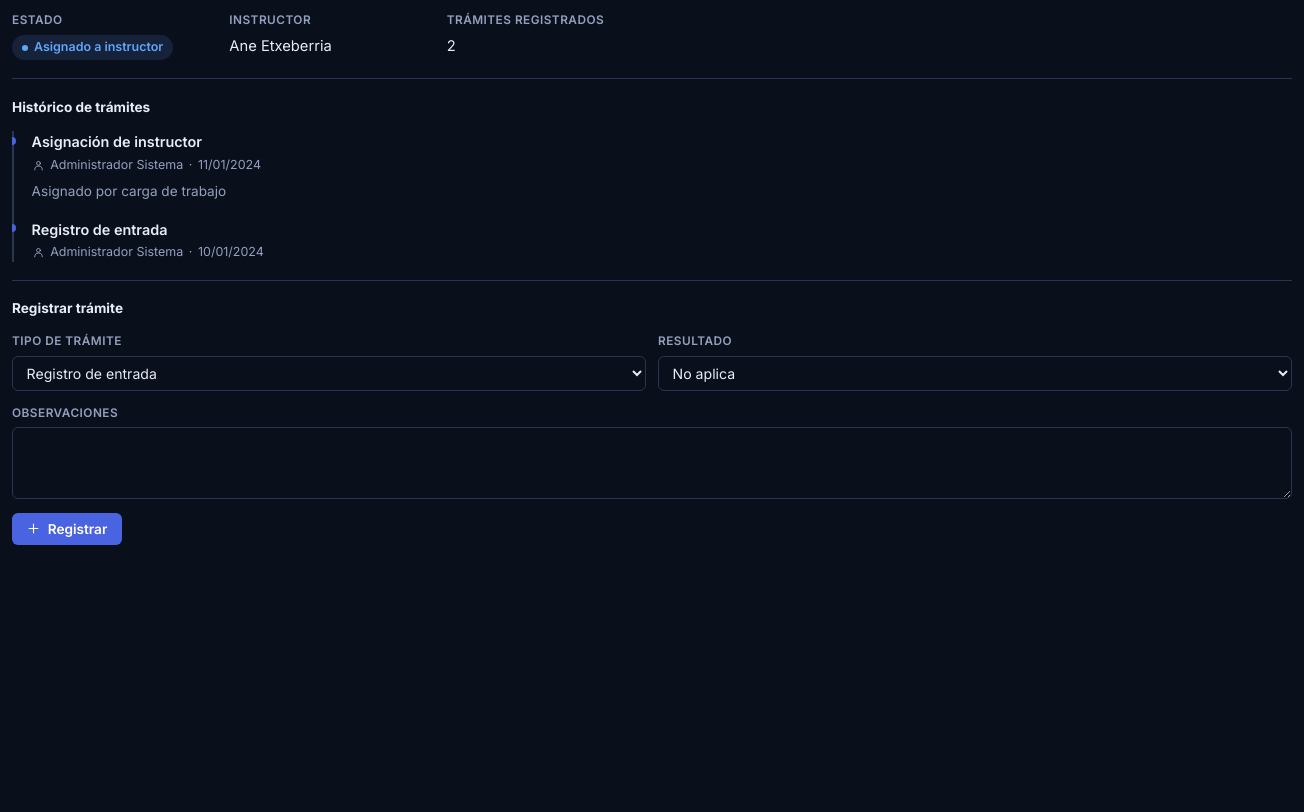
it: SeccionTramitacionPanel › muestra el motivo que devuelve el backend cuando rechaza el trámite
Click the button "Registrar" at point(67, 529), box [12,513,122,545]
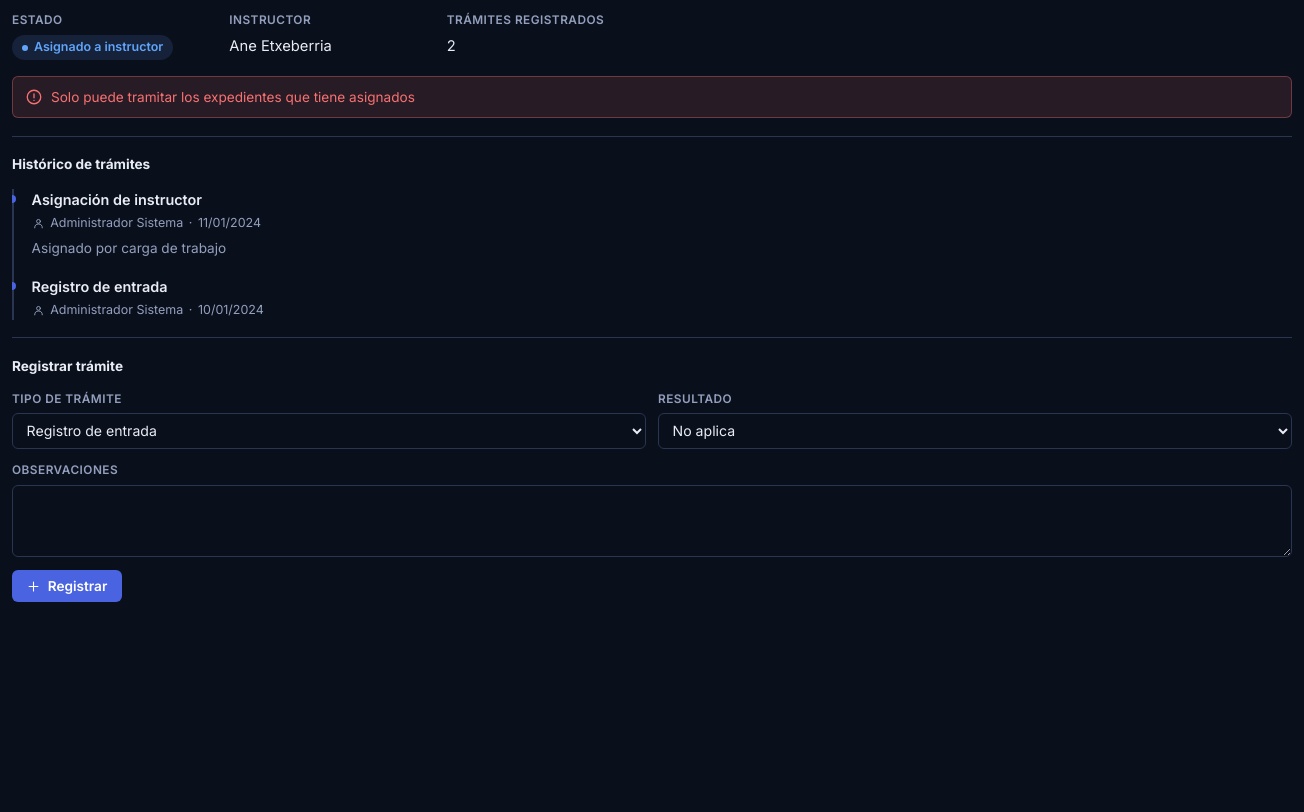
Expected: the message reads "Solo puede tramitar los expedientes que tiene asignados", [51,89,415,105]
